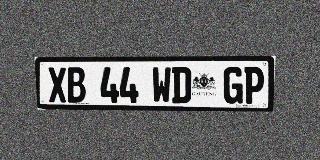4: (100, 67, 119, 103), (119, 67, 138, 103)
B: (66, 67, 86, 103)
D: (172, 67, 191, 103)
G: (223, 67, 244, 104)
P: (243, 67, 265, 104)
W: (152, 67, 171, 103)
X: (47, 67, 67, 102)
